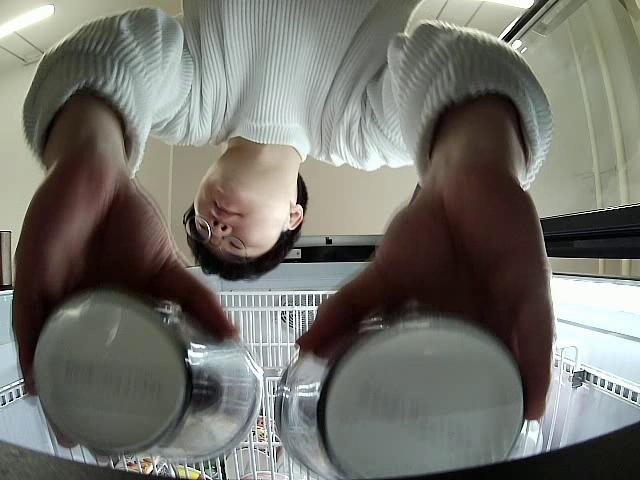00_hand: (10, 161, 238, 449), (293, 177, 555, 424)
08_buldak_S: (273, 310, 526, 480), (31, 294, 263, 465)
